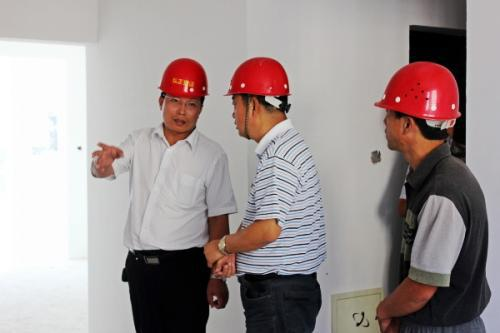helmet: (373, 58, 462, 161), (226, 55, 291, 140), (154, 55, 209, 136)
